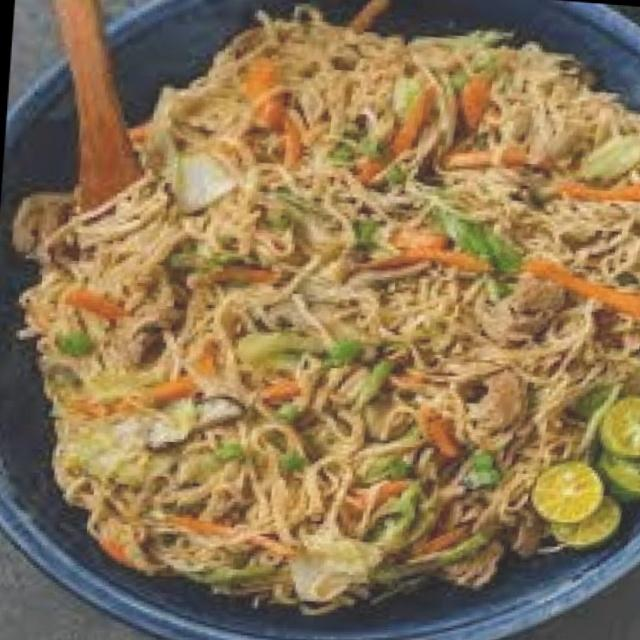pancit bihon: (22, 14, 639, 619)
